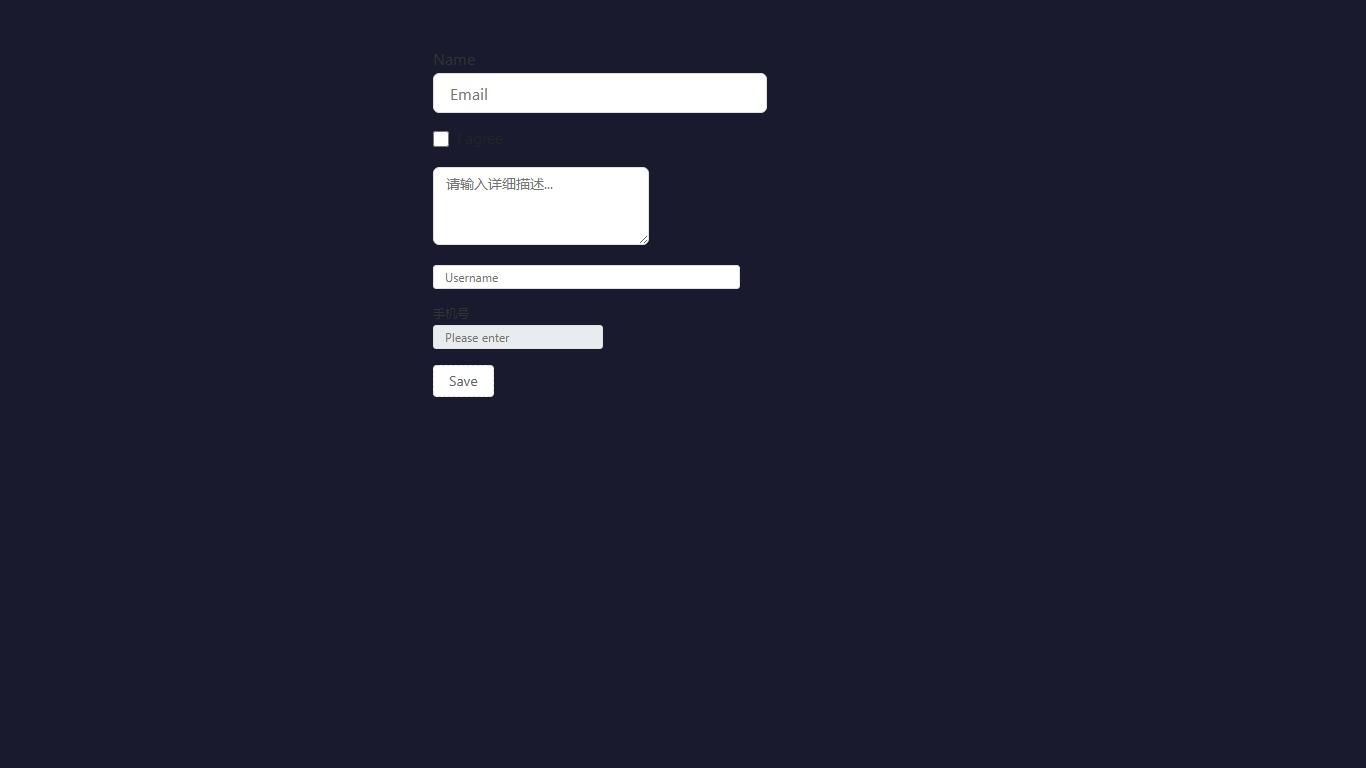button: (433, 365, 494, 397)
checkbox: (433, 131, 449, 147)
icon: (457, 129, 503, 148)
input: (433, 73, 767, 113), (433, 264, 740, 288), (433, 324, 603, 348)
radio: (433, 129, 503, 148)
textarea: (433, 167, 649, 244)
